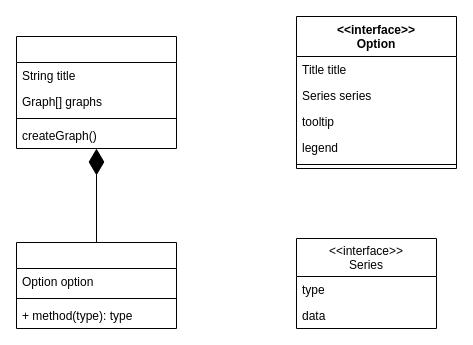
The diagram is 473 pixels wide and 345 high, and some of its shapes have lost their labels. The shapes that lost their labels are listed below. From the top down, each one's box as (x1, y1, x2, y2) in pixels, then its label:
(16, 36, 176, 148): Dashboard
(16, 242, 176, 328): Graph
